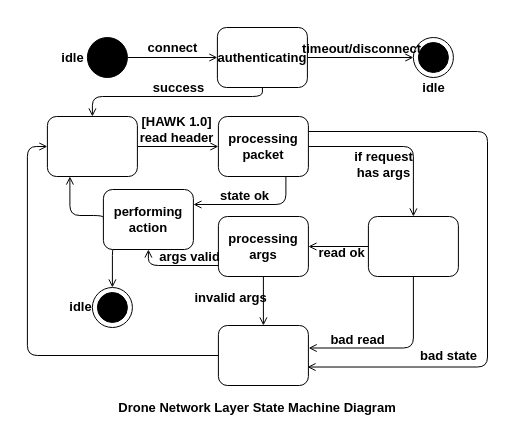
This 515x435 diagram has some shape labels left out. The box of each missing label's shape, as (x1, y1, x2, y2) in pixels:
listening to new packets: (46, 116, 137, 176)
reading packet args: (367, 216, 458, 276)
returning error message to remote: (217, 324, 308, 386)
